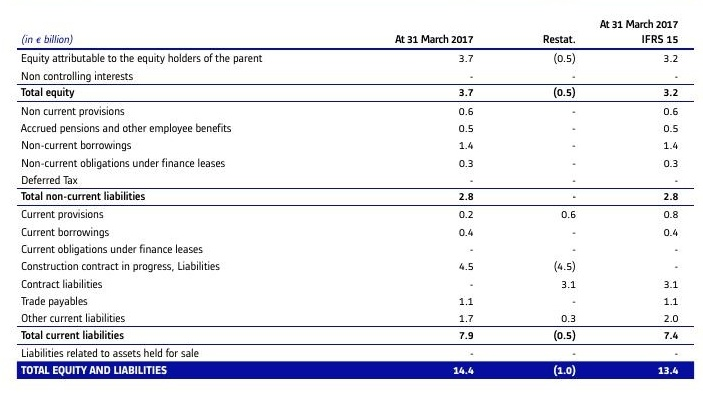table: (0, 0, 703, 396)
